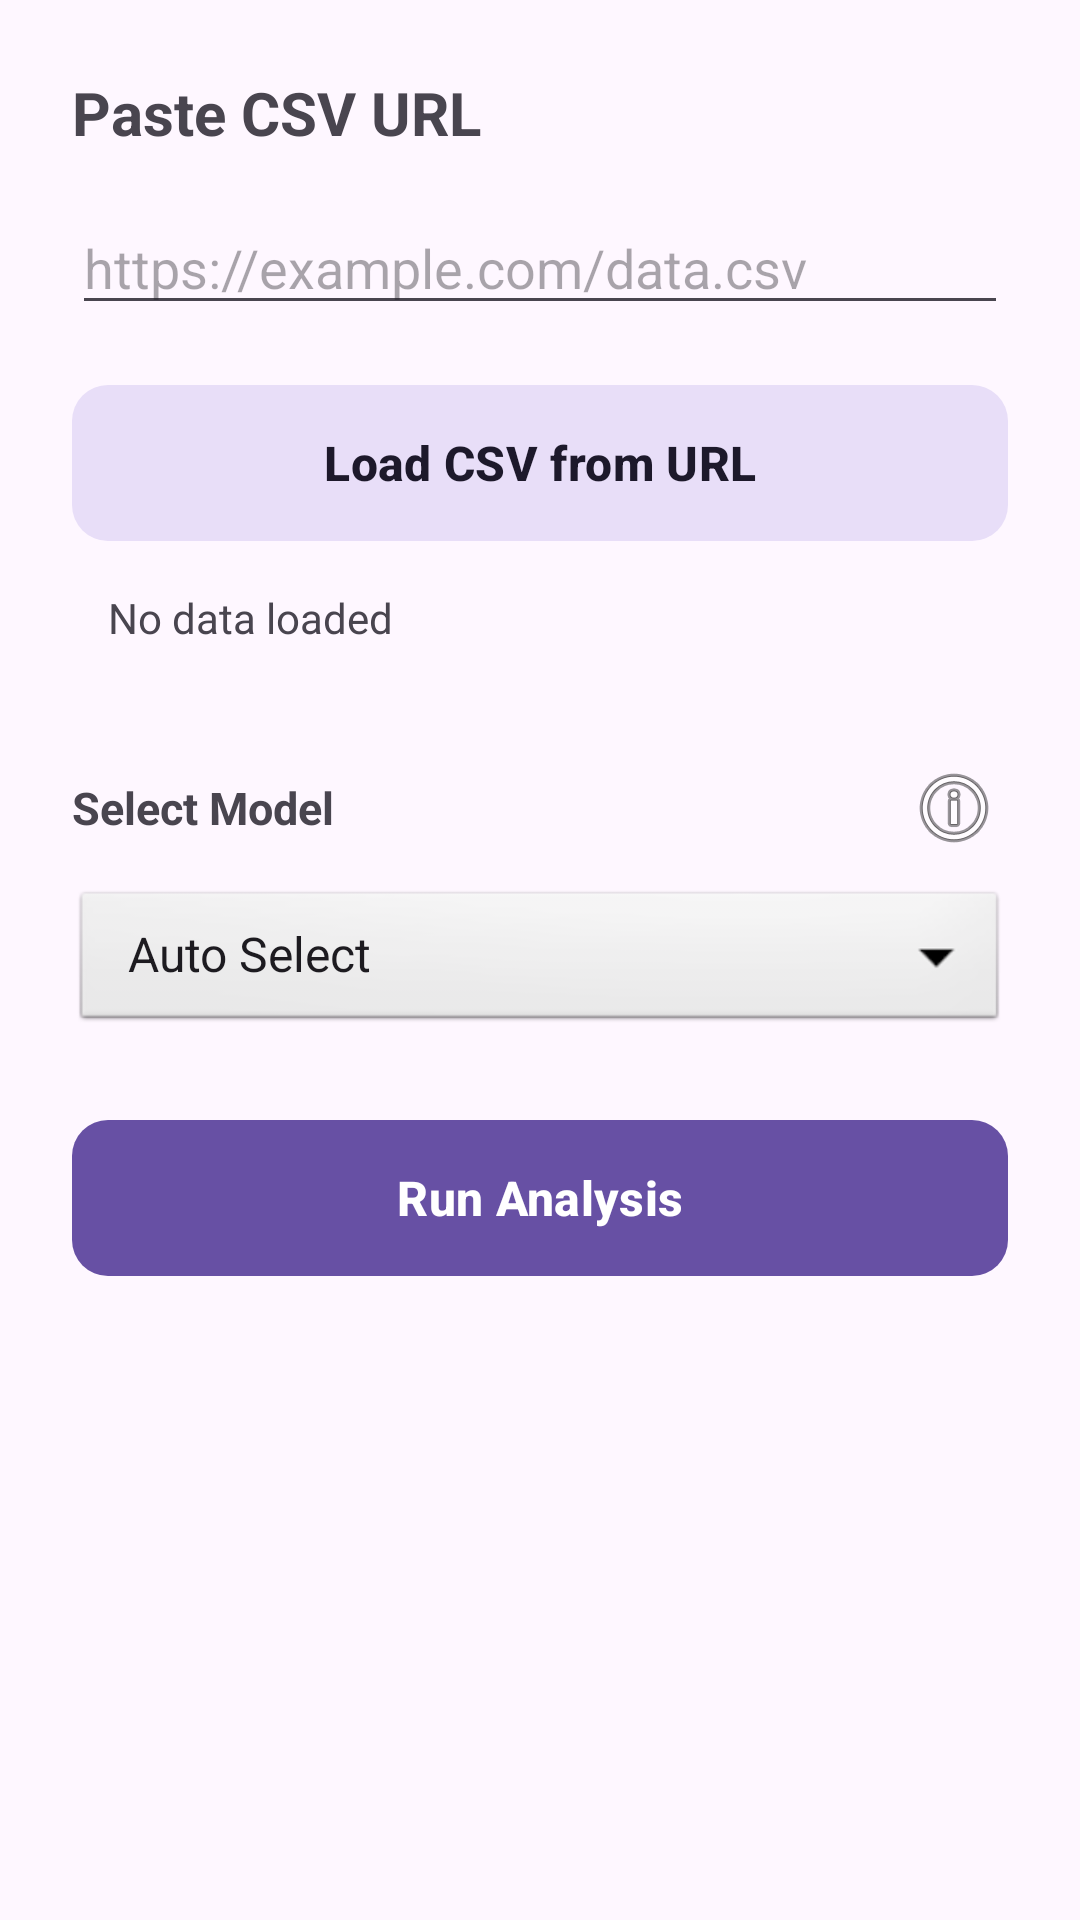

Icons on this 1080px x 1920px Android screen, each with its box as (x1, y1, x2, y2):
Model info: (919, 773, 989, 843)
